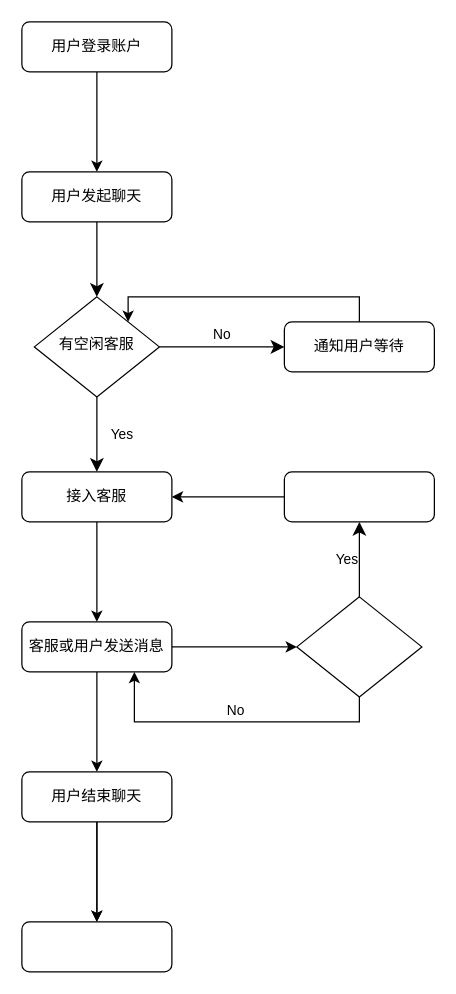
Image size: 456x994. Some labels were removed from this diagram. Each missing label, with the box of its shape:
是否需要 转接给 其他客服: (296, 596, 422, 697)
用户评价客服: (21, 921, 172, 972)
转接客服: (283, 471, 434, 522)
